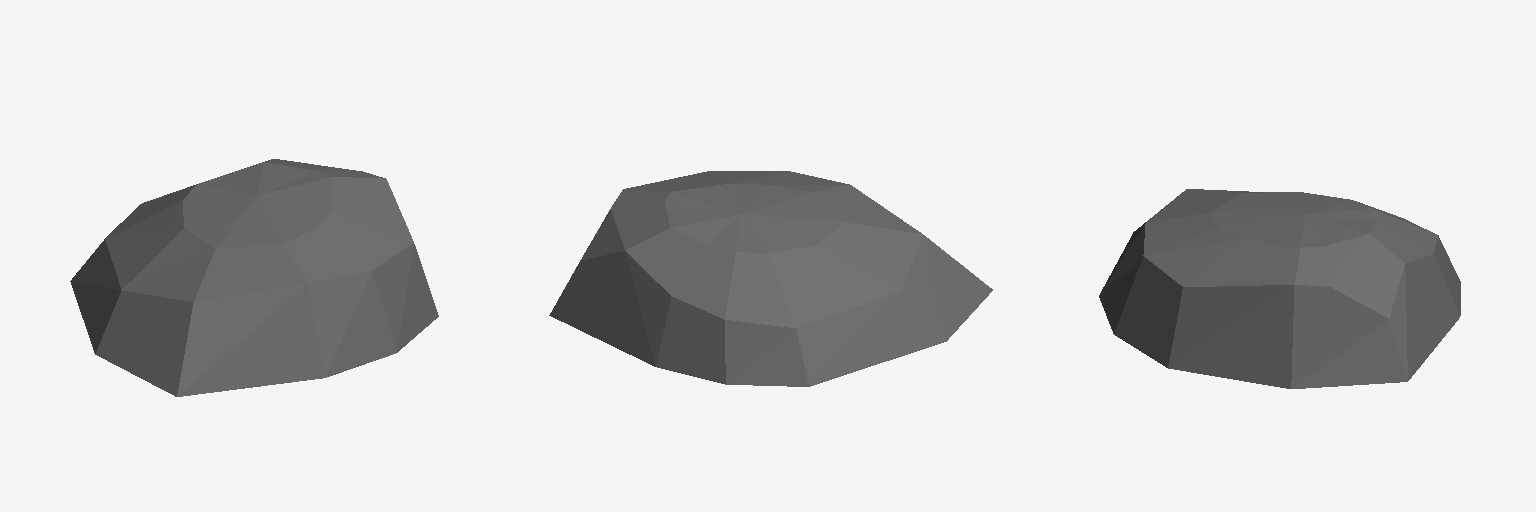
Rendered from Stone_3.obj.
3 renders of one model, left to right at view 1: azimuth 30°, elevation 25°; view 2: azimuth 150°, elevation 25°; view 3: azimuth 270°, elevation 25°, orthographic.
Visible parts, largest first — view 1: Box050; view 2: Box050; view 3: Box050.
Part boxes in pixels (x1,y1,x2,y2): Box050: (70,159,438,396); Box050: (549,171,992,386); Box050: (1099,189,1460,388).
Bounding box in the file's own units: 1.66 × 0.4732 × 1.54.